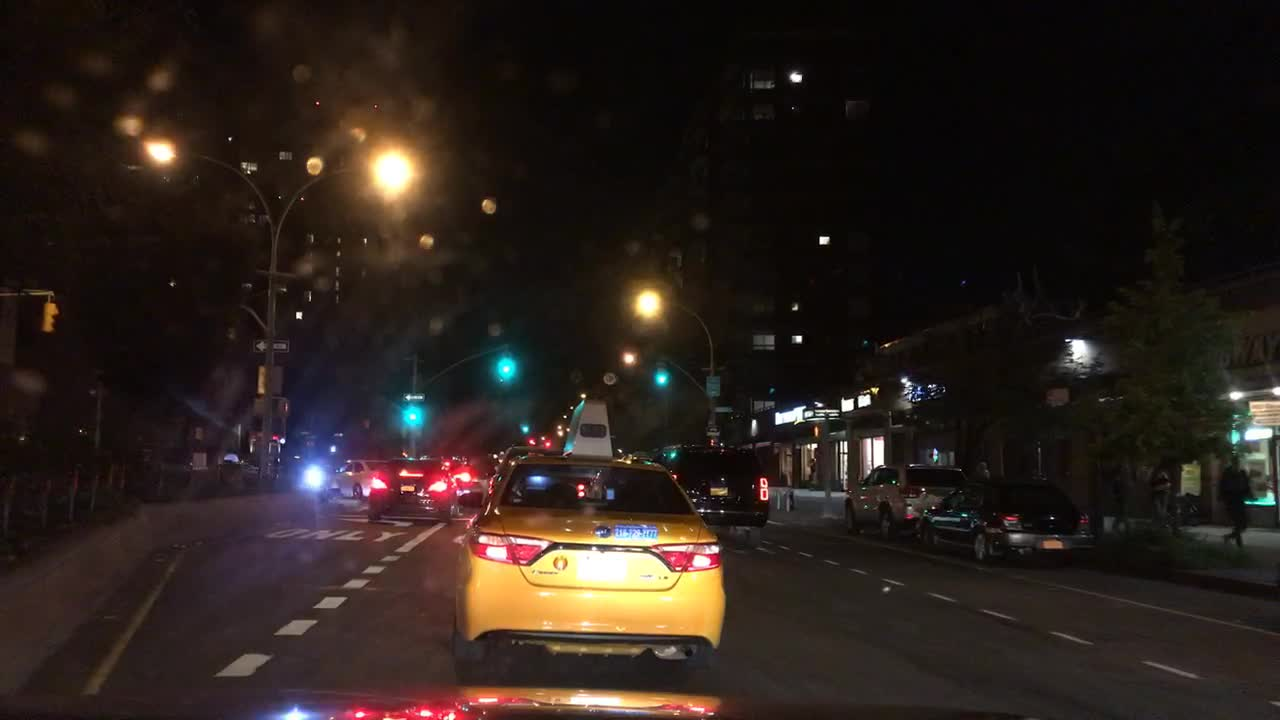car: (456, 400, 721, 678), (914, 479, 1095, 561), (650, 442, 769, 549), (843, 461, 963, 541), (368, 457, 459, 519), (490, 442, 545, 496), (331, 460, 380, 502), (300, 464, 340, 492), (456, 465, 481, 504)
person: (1212, 457, 1257, 546), (1109, 461, 1130, 531), (1149, 462, 1171, 526), (978, 459, 988, 477)
traffic light: (41, 303, 58, 330), (656, 365, 667, 386), (501, 353, 511, 376), (252, 399, 263, 416), (277, 398, 286, 416), (409, 406, 417, 425), (519, 416, 529, 431)
traffic sign: (255, 366, 286, 395), (253, 341, 290, 351), (706, 375, 721, 396), (403, 391, 426, 401), (706, 425, 719, 437), (713, 406, 733, 413)
